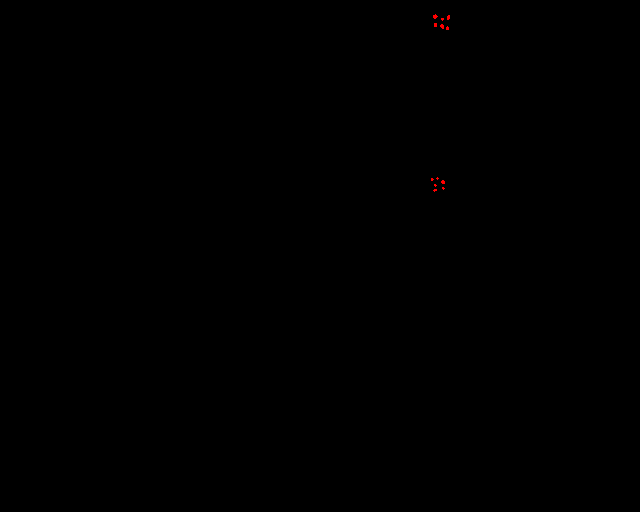Target: (433, 14, 438, 19), (440, 24, 444, 29), (441, 180, 445, 184), (447, 15, 450, 20), (434, 23, 437, 27), (446, 26, 449, 30), (433, 189, 437, 192), (441, 18, 444, 21), (436, 177, 439, 180), (431, 178, 434, 181), (434, 184, 437, 187), (442, 187, 445, 190)
